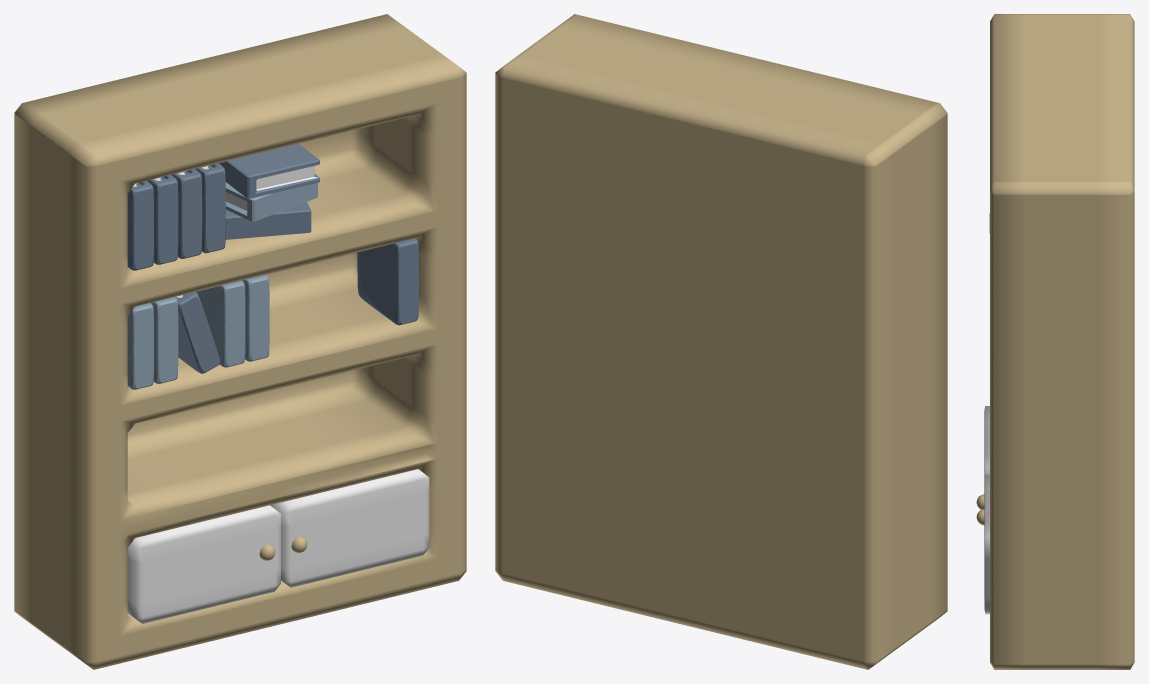
File: Libreria.fbx
3 renders of one model, left to right at view 1: azimuth 30°, elevation 25°; view 2: azimuth 150°, elevation 25°; view 3: azimuth 270°, elevation 25°, orthographic. The views are drawn at different scales.
Parts seen in each view (by area): view 1: libreria, Cube.001, Cube.012, Cube.013, Cube.002, Cube.010, Cube.011, Cube.003, Cube.004; view 2: libreria; view 3: libreria.
Boxes of the visible parts, <box> form: libreria: <box>14,14,466,669</box>; Cube.001: <box>127,163,225,270</box>; Cube.012: <box>196,275,269,367</box>; Cube.013: <box>357,238,418,325</box>; Cube.002: <box>127,297,178,389</box>; Cube.010: <box>219,144,319,198</box>; Cube.011: <box>175,292,220,373</box>; Cube.003: <box>225,202,311,239</box>; Cube.004: <box>225,174,317,221</box>; libreria: <box>495,14,947,669</box>; libreria: <box>976,14,1134,669</box>.
Bounding box in the file's own units: 65.8 × 85 × 24.99.
